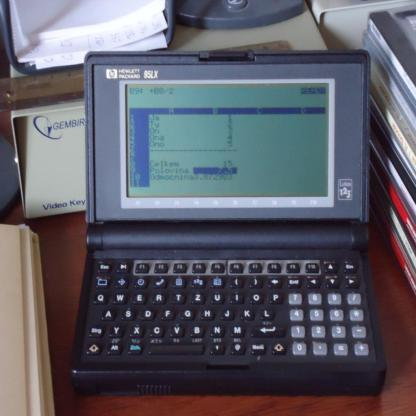board: (70, 49, 387, 396)
